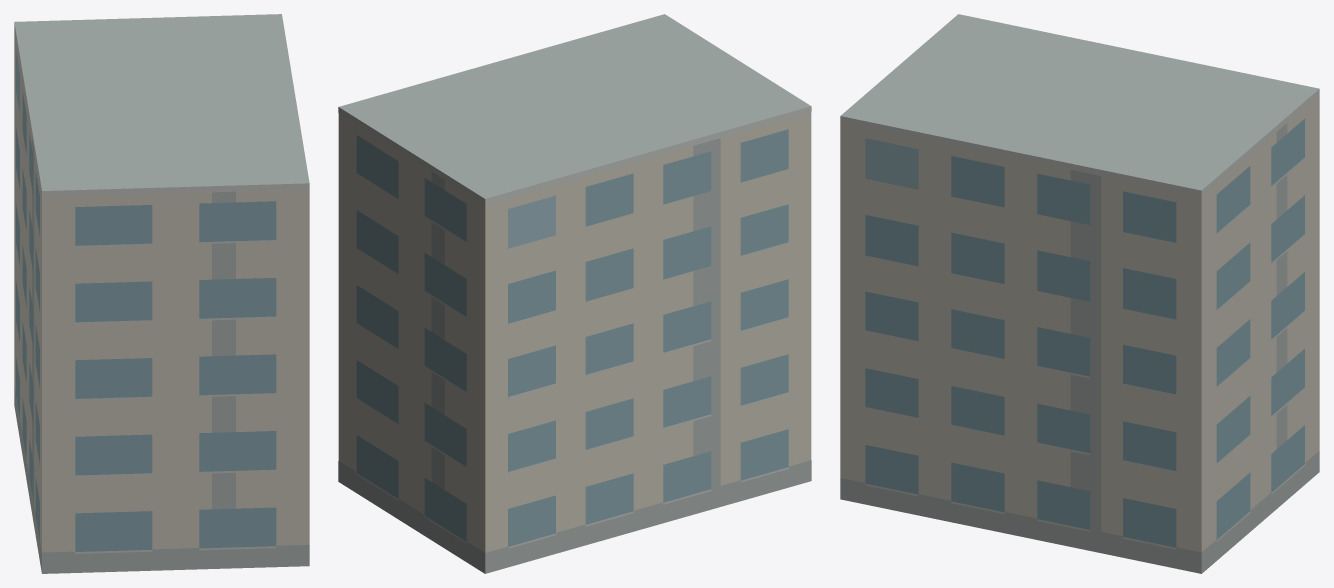
Rendered from residential-f7b45f85-b789-4956-bbaa-36bacffeb644.glb.
3 views of the same model, side by side, from view 1: azimuth 30°, elevation 25°; view 2: azimuth 150°, elevation 25°; view 3: azimuth 270°, elevation 25° (orthographic). The views are drawn at different scales.
Visible parts, largest first — view 1: residential-f7b45f85-b789-4956-bbaa-36bacffeb644.tmp; view 2: residential-f7b45f85-b789-4956-bbaa-36bacffeb644.tmp; view 3: residential-f7b45f85-b789-4956-bbaa-36bacffeb644.tmp.
Part boxes in pixels (x1,y1,x2,y2): residential-f7b45f85-b789-4956-bbaa-36bacffeb644.tmp: (14,14,309,573); residential-f7b45f85-b789-4956-bbaa-36bacffeb644.tmp: (338,14,811,573); residential-f7b45f85-b789-4956-bbaa-36bacffeb644.tmp: (840,14,1319,573).
Bounding box in the file's own units: 14.83 × 15 × 17.01.
